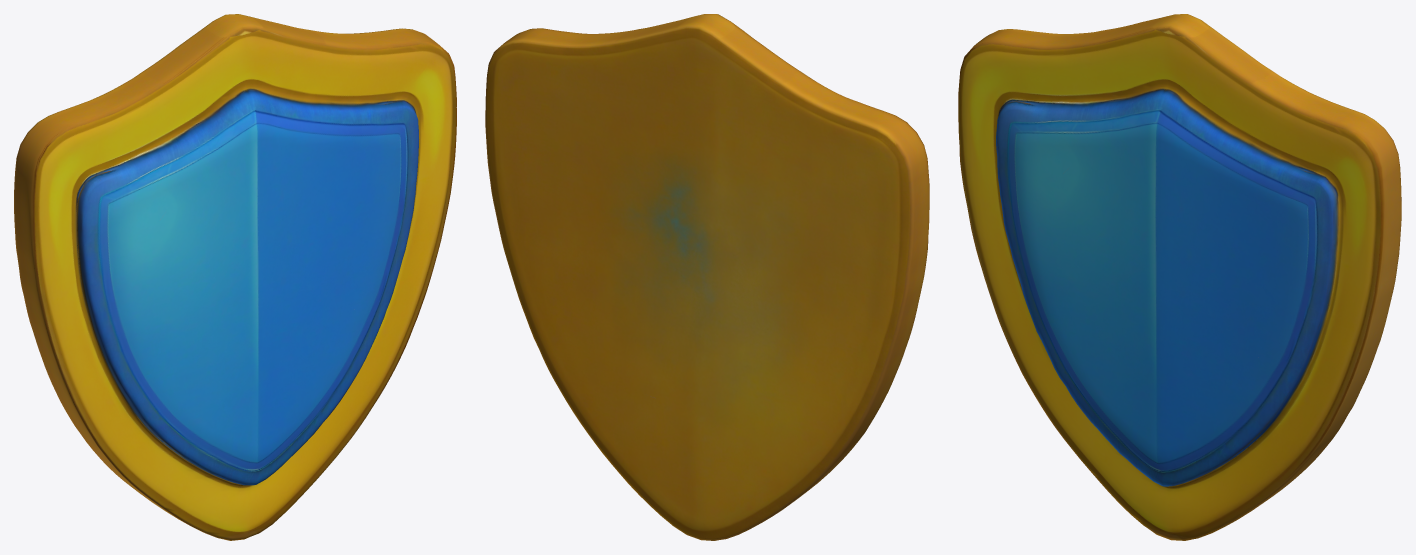
File: Shield_of_Protection_0531005525_texture.fbx
3 renders of one model, left to right at view 1: azimuth 30°, elevation 25°; view 2: azimuth 150°, elevation 25°; view 3: azimuth 330°, elevation 25°, orthographic.
Parts seen in each view (by area): view 1: input; view 2: input; view 3: input.
Boxes of the visible parts, left/top/right/bottom form: input: left=14, top=14, right=456, bottom=540; input: left=485, top=14, right=929, bottom=540; input: left=958, top=14, right=1401, bottom=540.
Size of the model in its own units: 174 by 200 by 23.88.
1 material, 1 textured.
